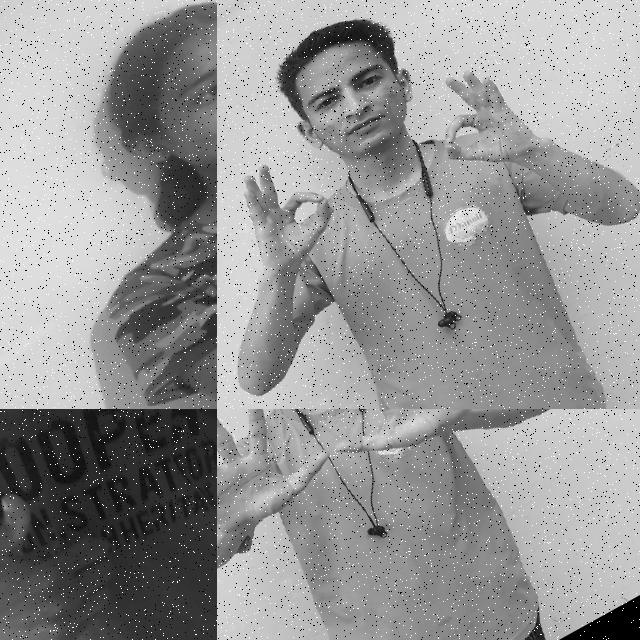Fist Mouth: (60, 0, 217, 286)
Moutza: (217, 409, 351, 572), (281, 409, 511, 495)
Okay: (217, 134, 361, 292), (408, 45, 552, 196)
Thumbs Up: (0, 456, 151, 640)
